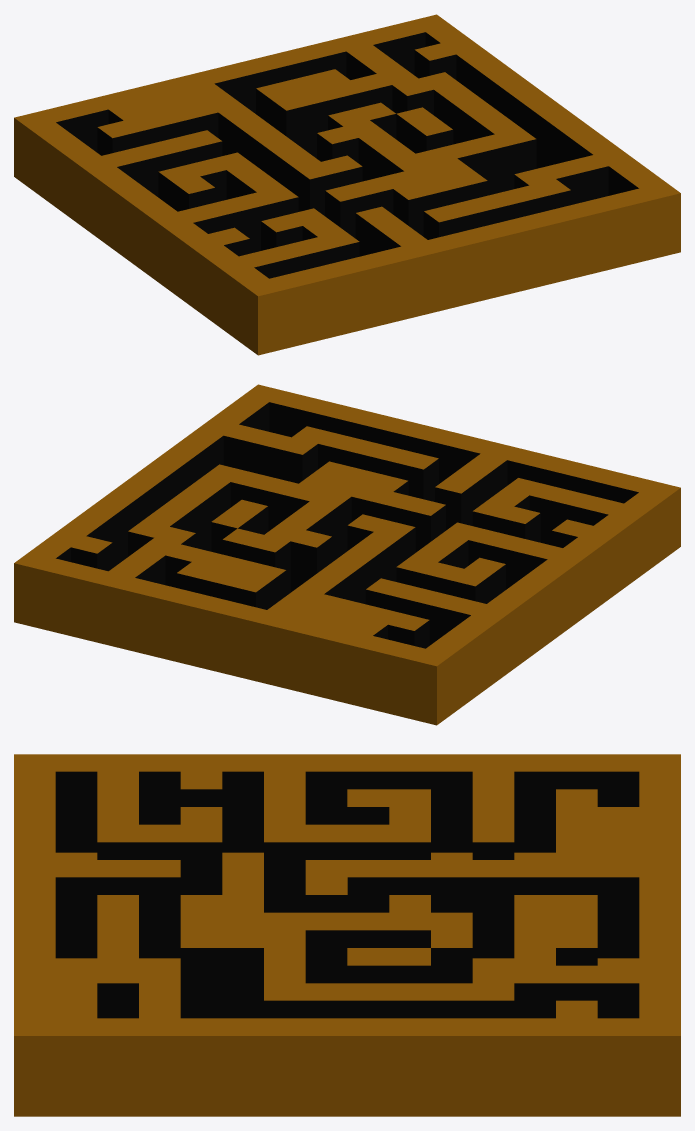
File: maze-level1.fbx
The picture shows the model from 3 angles, top to bottom: view 1: azimuth 30°, elevation 25°; view 2: azimuth 150°, elevation 25°; view 3: azimuth 270°, elevation 25°; orthographic projection. The views are drawn at different scales.
Visible parts, largest first — view 1: Prostokąt; view 2: Prostokąt; view 3: Prostokąt.
Part boxes in pixels (left/top/right/bottom): Prostokąt: left=14, top=14, right=680, bottom=355; Prostokąt: left=14, top=384, right=680, bottom=725; Prostokąt: left=14, top=754, right=680, bottom=1116.
Size of the model in its own units: 3593 by 480 by 3593.
